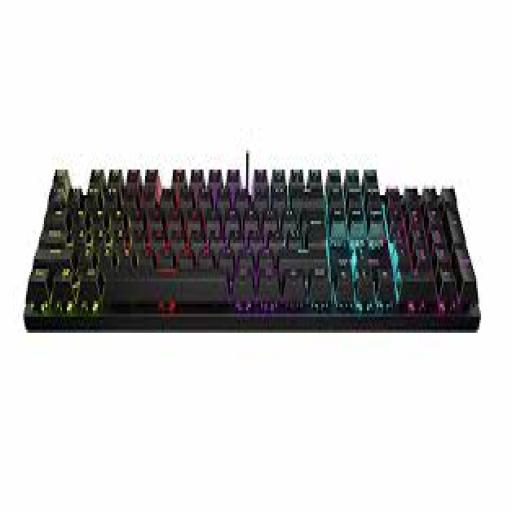keyboard: (28, 157, 479, 330)
